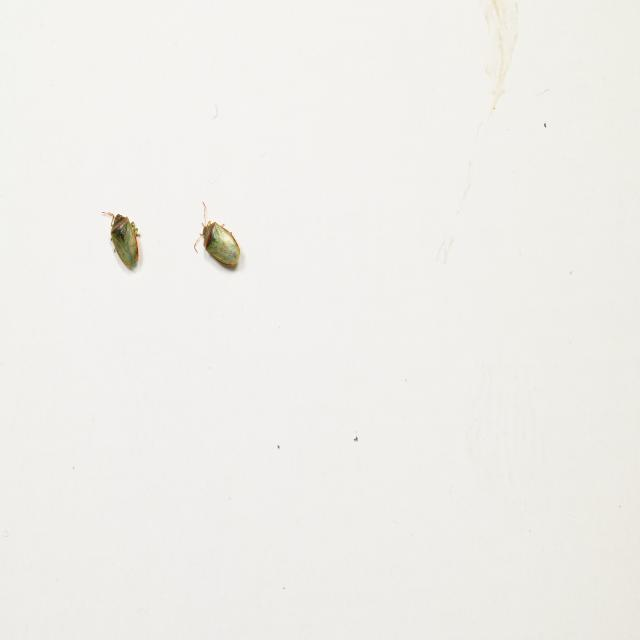stinkbug: (194, 199, 241, 273), (102, 206, 140, 272)
